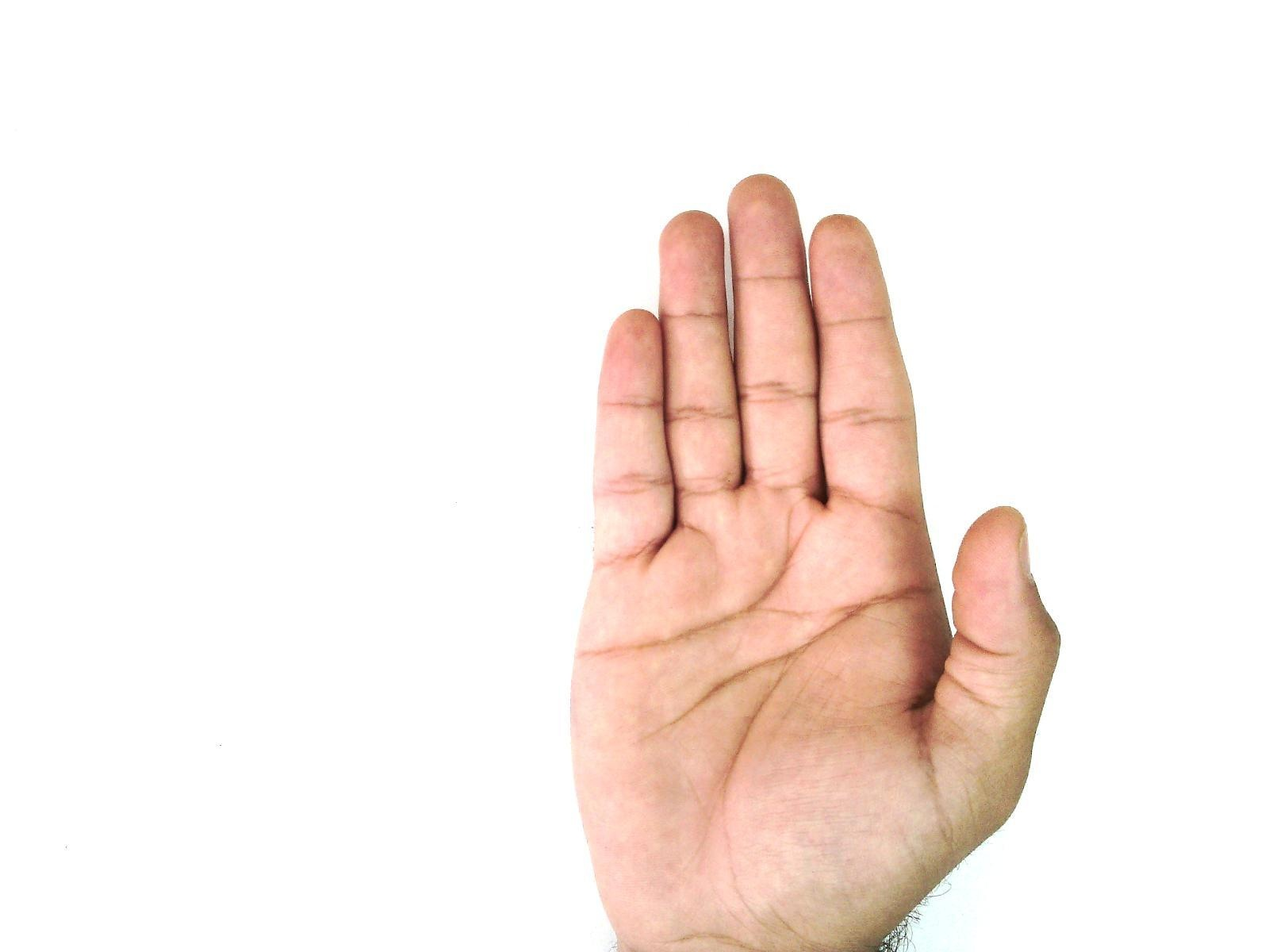open_palm: (566, 173, 1064, 951)
